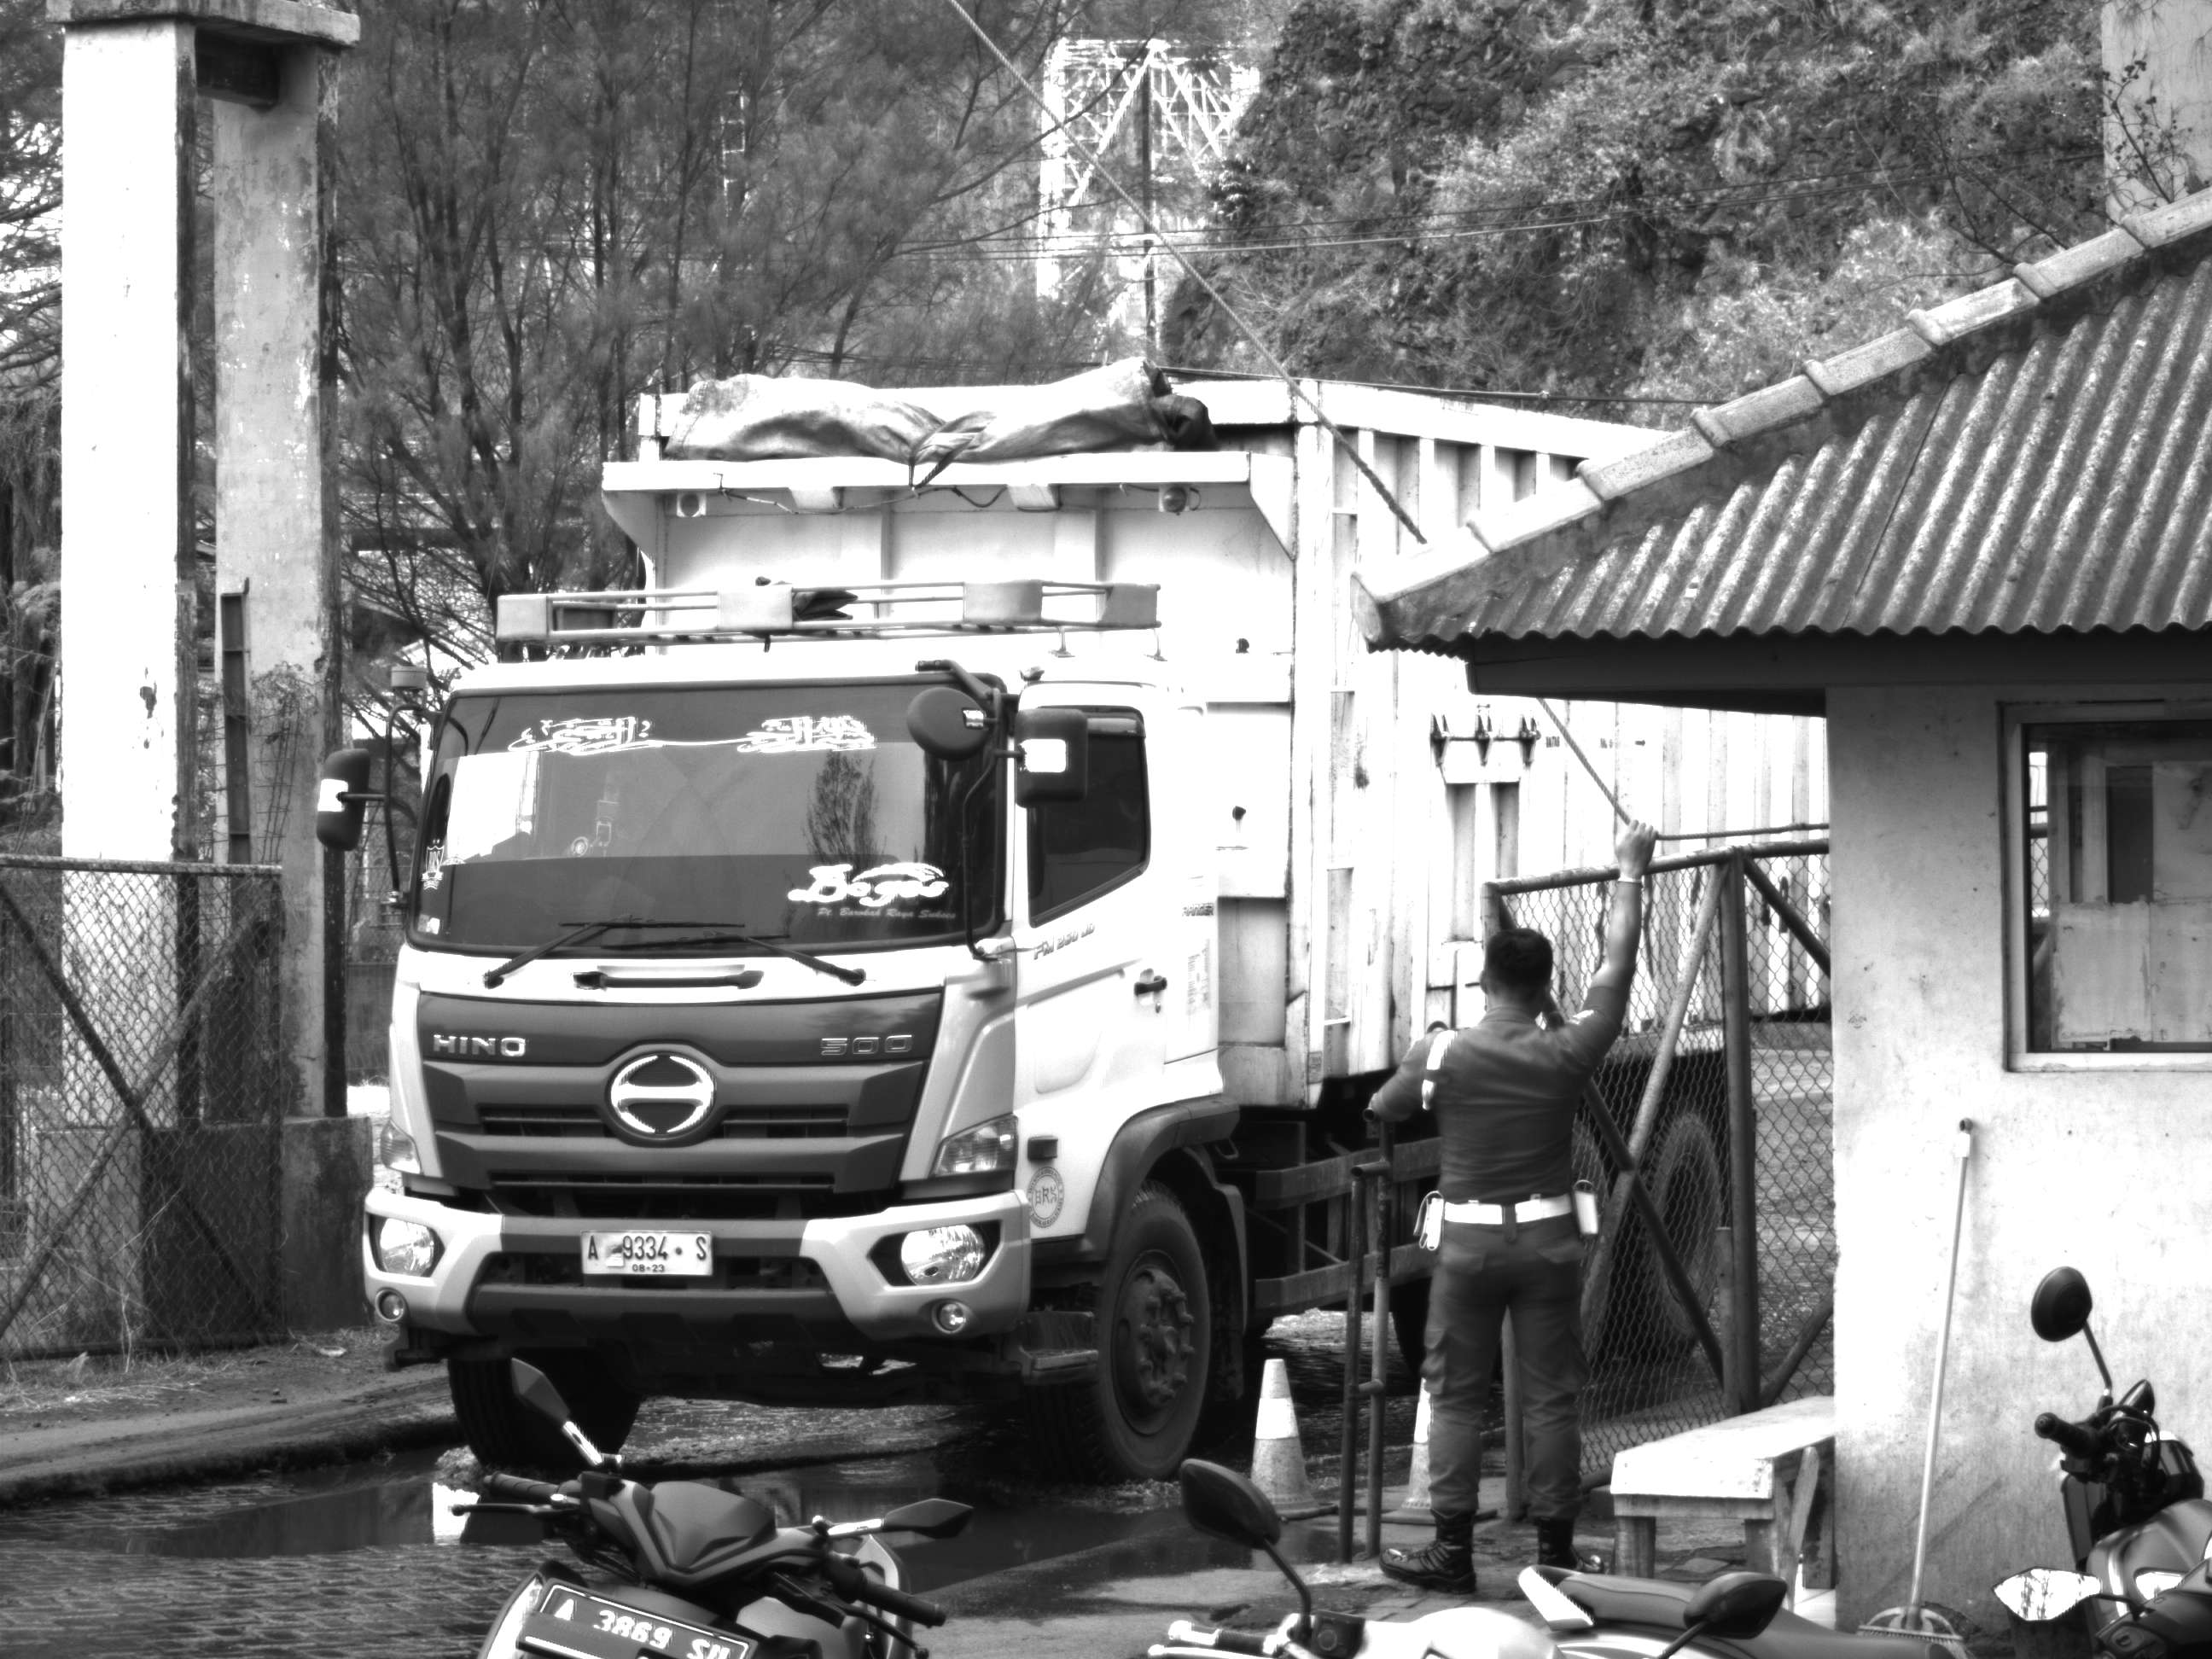day_truck_front: (336, 422, 1222, 1481)
plate: (578, 1221, 717, 1287)
